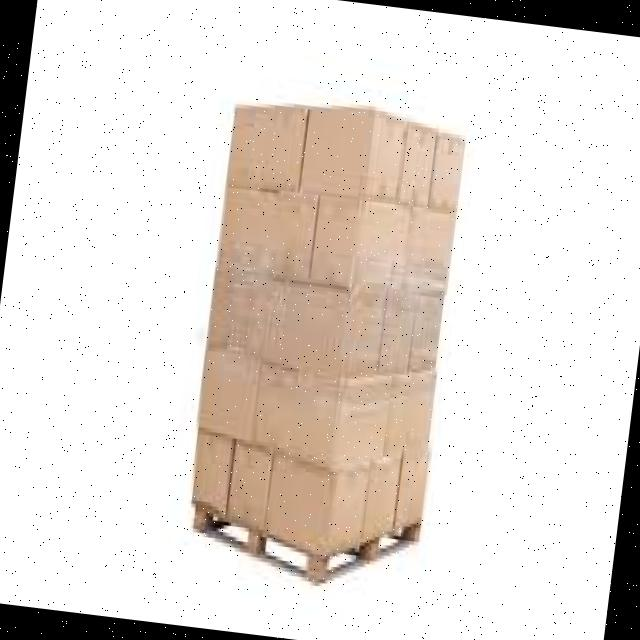Wooden-Pallets: (183, 485, 430, 594)
